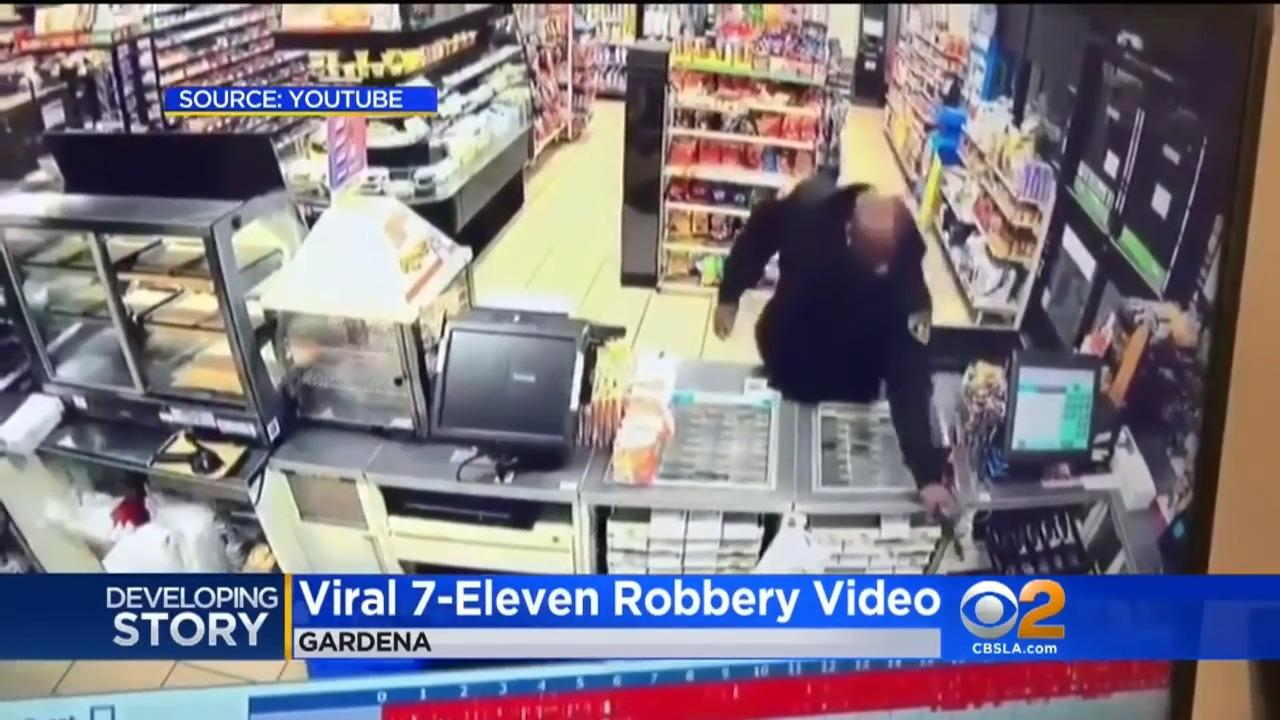non-violence: (713, 142, 963, 525)
weapon: (924, 503, 970, 567)
